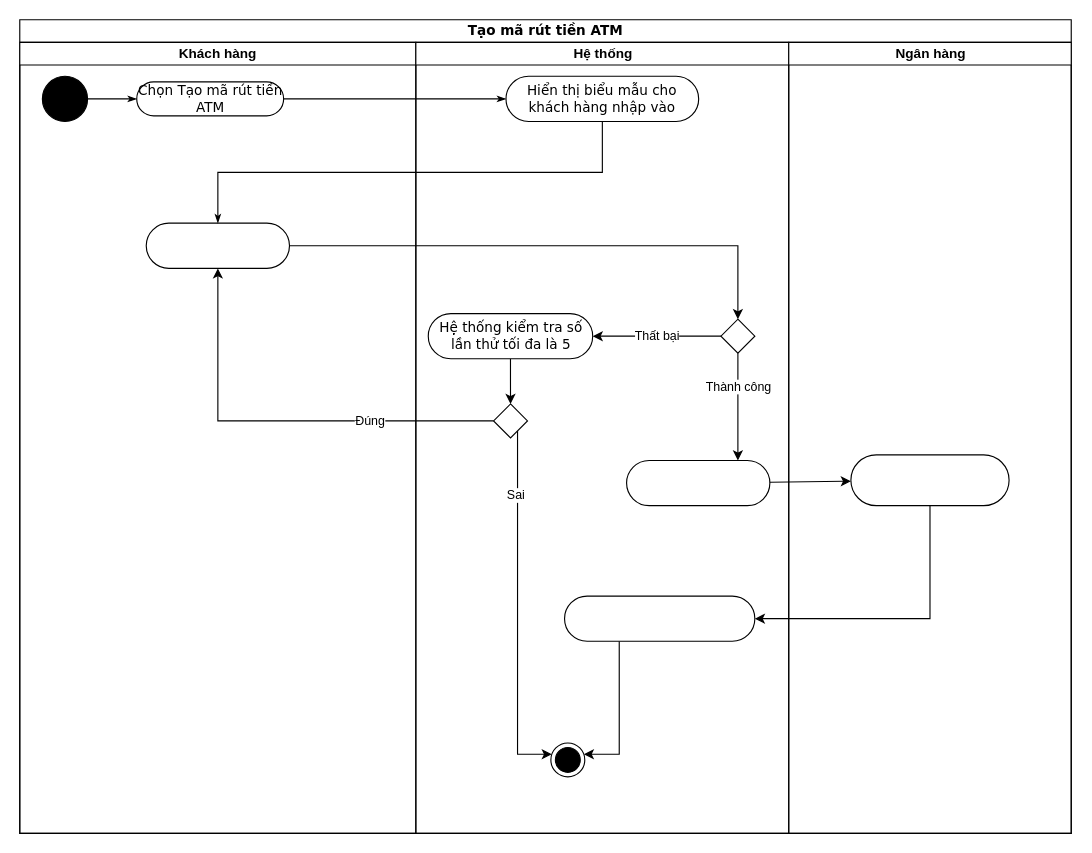
Image size: 1092x853. Some labels were removed from this diagram. Each missing label, with the centre of its shape:
Hệ thống gửi mã về cho khách hàng: point (659, 618)
Hệ thống gửi thông tin về ngân hàng: point (697, 482)
Khách hàng xác thực giao dịch: point (217, 245)
Ngân hàng ghi nhận và xử lý: point (929, 480)
